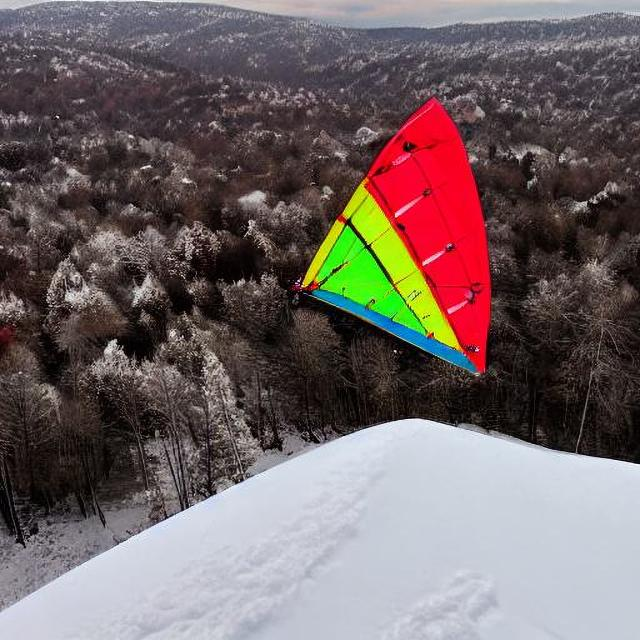floating object: (305, 91, 511, 382)
